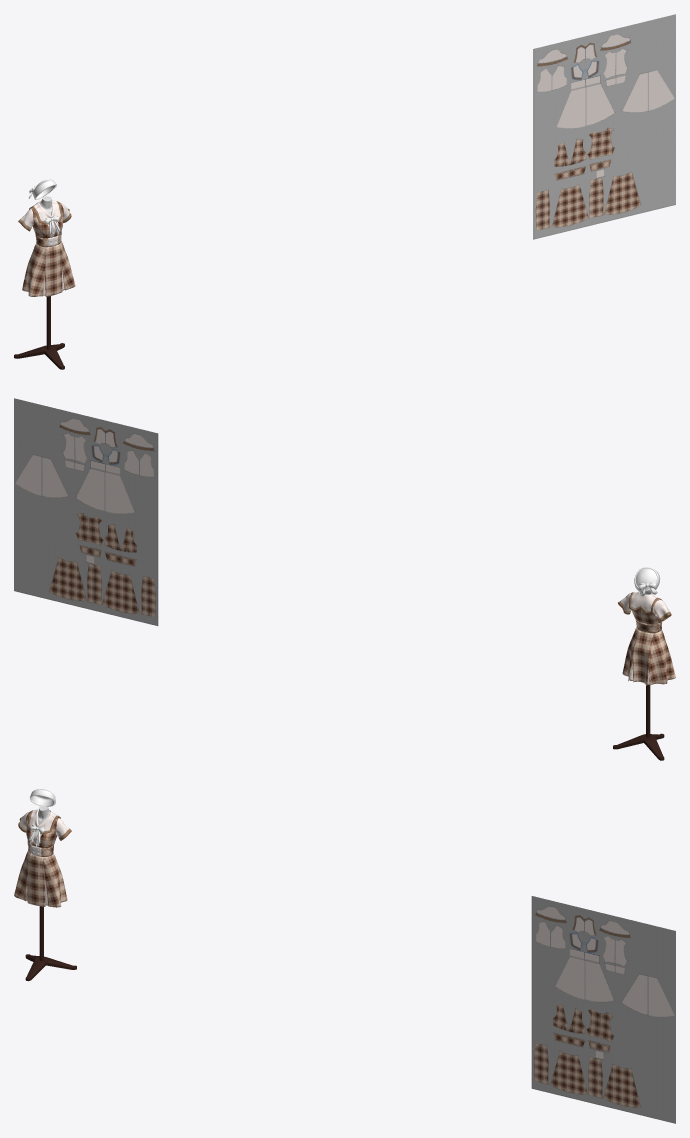
3 views of the same model, one above another, from view 1: azimuth 30°, elevation 25°; view 2: azimuth 150°, elevation 25°; view 3: azimuth 330°, elevation 25° (orthographic).
Parts seen in each view (by area): view 1: Plane, a.007, Circle.003; view 2: Plane, a.007, Circle.003, Rina, First Love Again_mesh.003; view 3: Plane, a.007, Circle.003.
Boxes of the visible parts, x1=… form: Plane: x1=533, y1=14, x2=675, y2=239; a.007: x1=18, y1=200, x2=75, y2=296; Circle.003: x1=14, y1=196, x2=64, y2=369; Plane: x1=14, y1=398, x2=158, y2=625; a.007: x1=618, y1=592, x2=675, y2=685; Circle.003: x1=613, y1=594, x2=664, y2=760; Rina, First Love Again_mesh.003: x1=634, y1=567, x2=660, y2=595; Plane: x1=531, y1=896, x2=675, y2=1123; a.007: x1=14, y1=809, x2=71, y2=907; Circle.003: x1=25, y1=805, x2=76, y2=981.
Size of the model in its own units: 7.17 by 2.01 by 0.4841.
